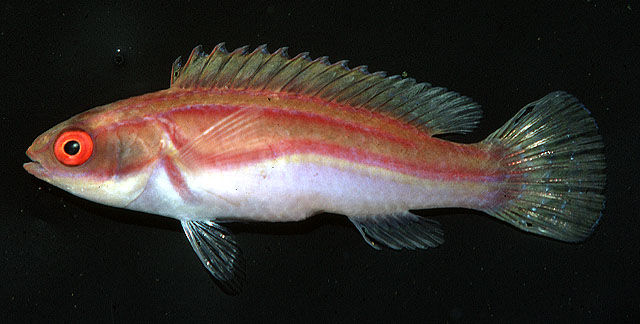fish: (23, 41, 609, 284)
